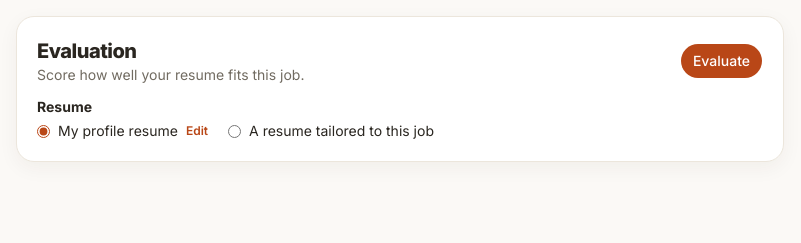
Scenario: JobEvaluationPanel › shows the API's error, such as the evaluation limit
Click the button "Evaluate": [721, 61] box [680,43,763,79]
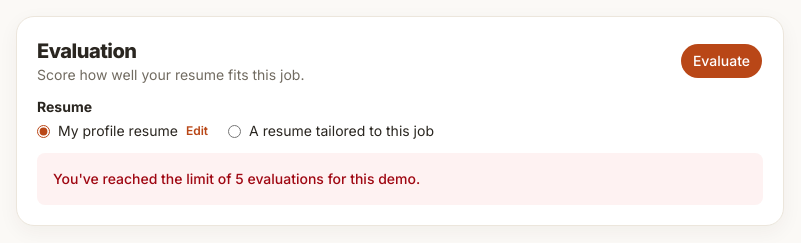
Expected: the message reads "You've reached the limit of 5 evaluations for this demo.", [53,170,420,187]
